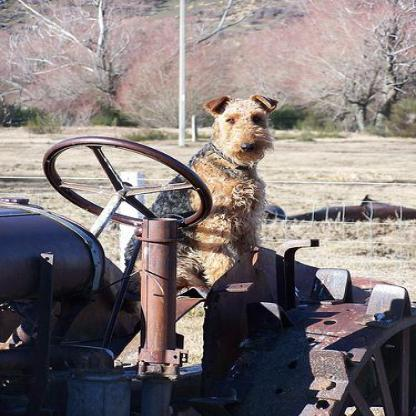dog: (174, 91, 285, 255)
